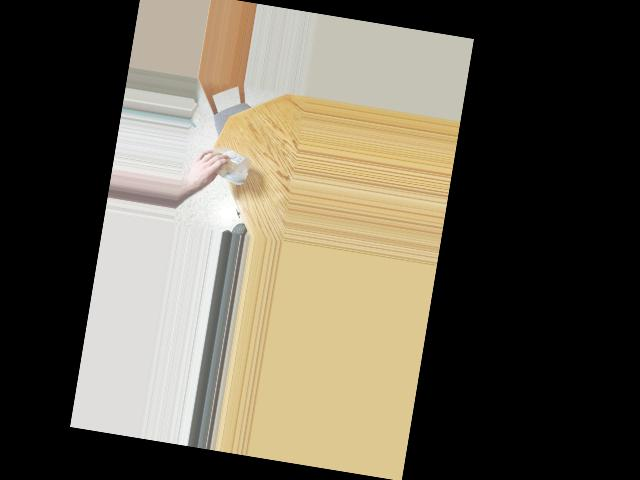cheese: (206, 144, 250, 183)
